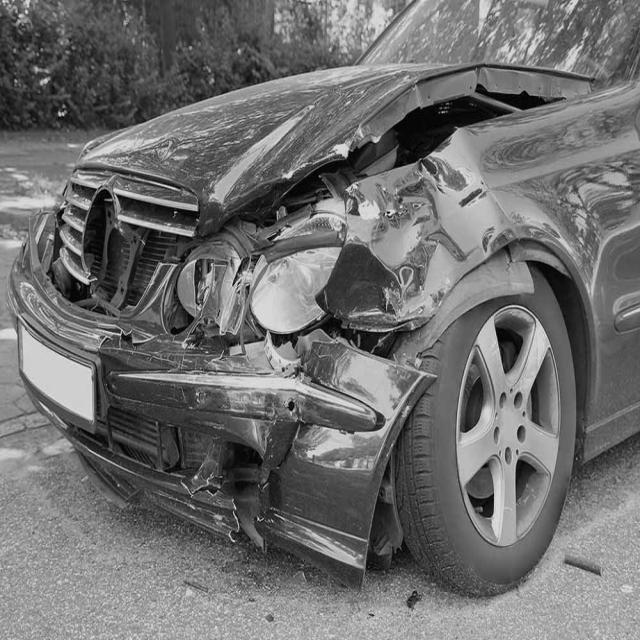crush: (28, 62, 596, 590)
